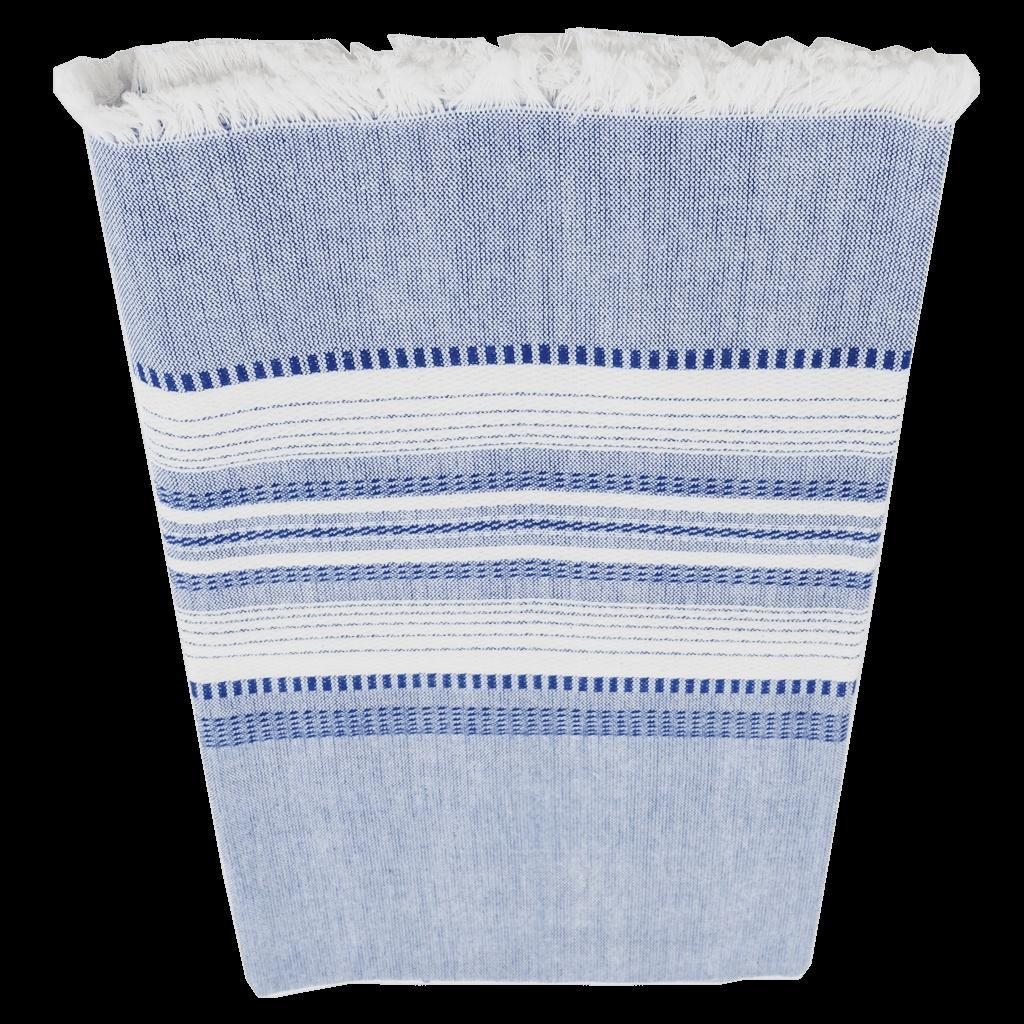towel: (38, 28, 1002, 1024)
